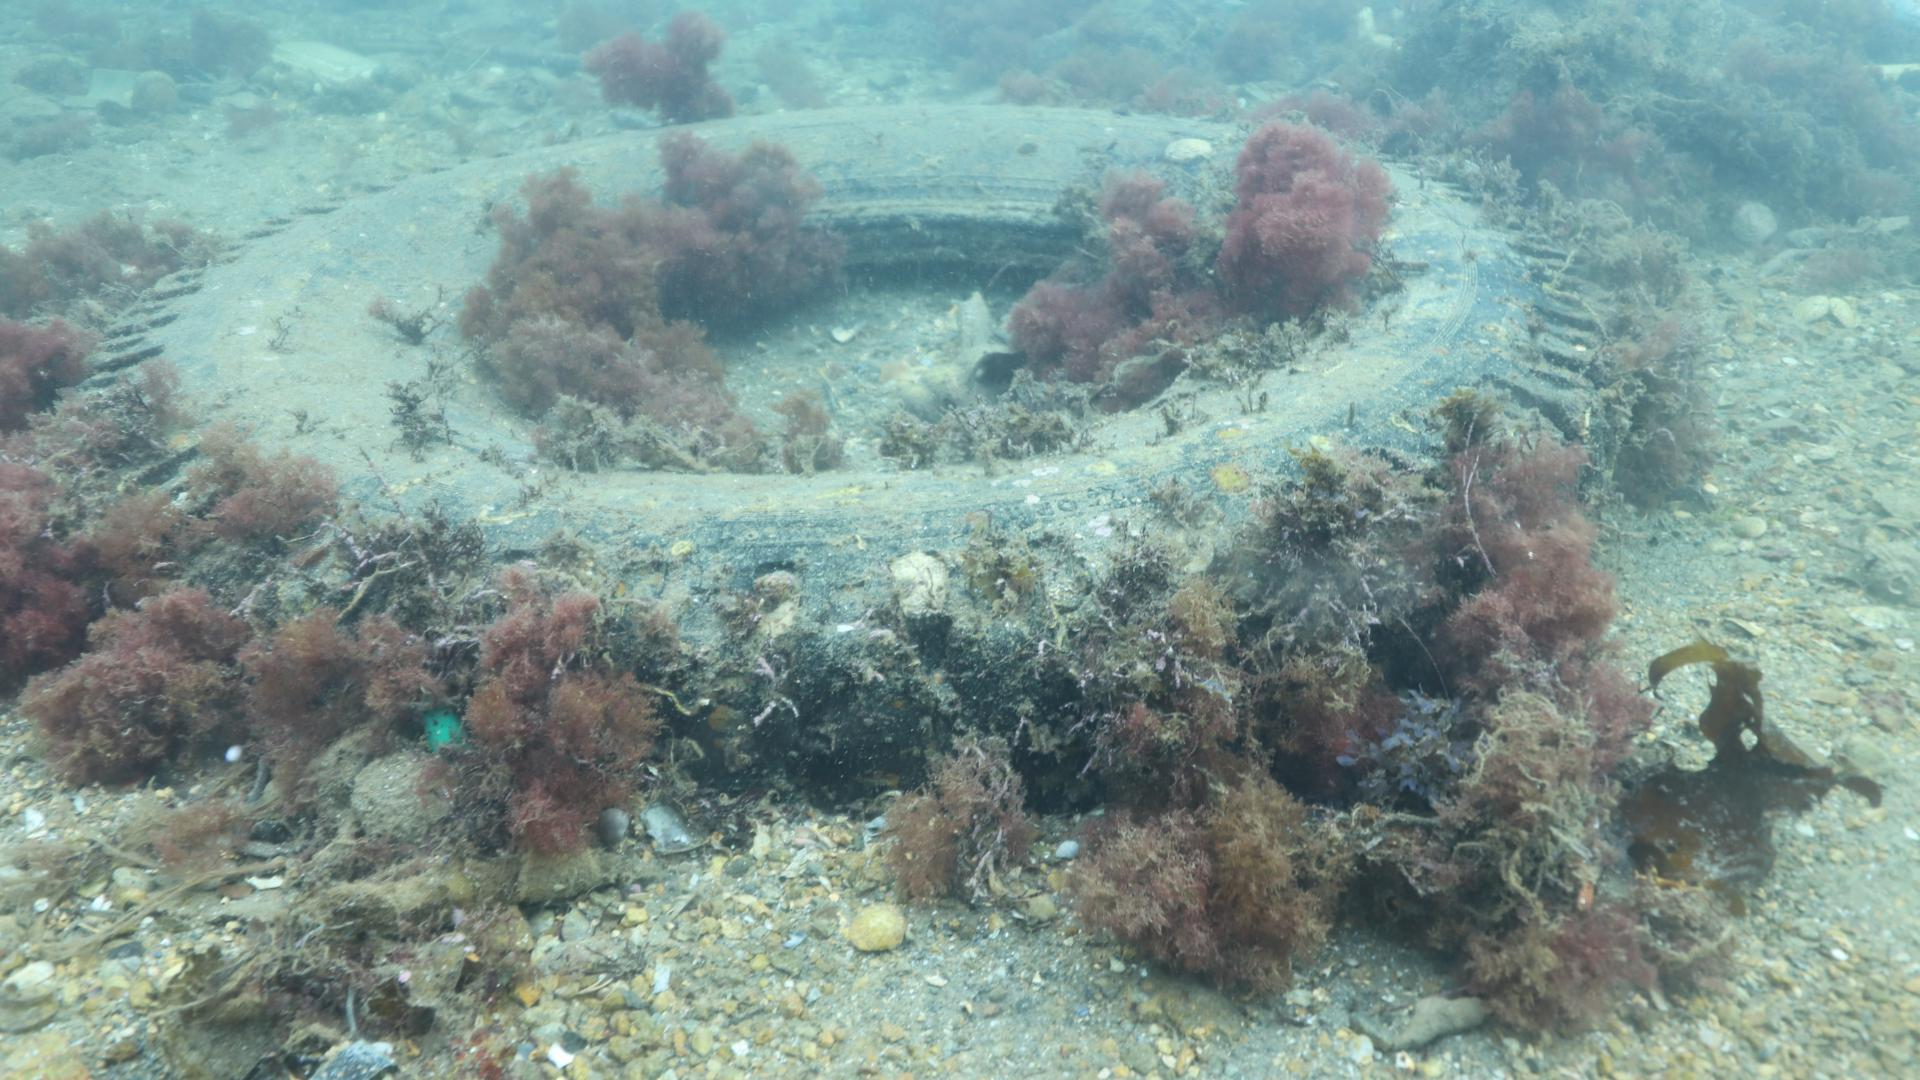tire: (69, 99, 1598, 778)
